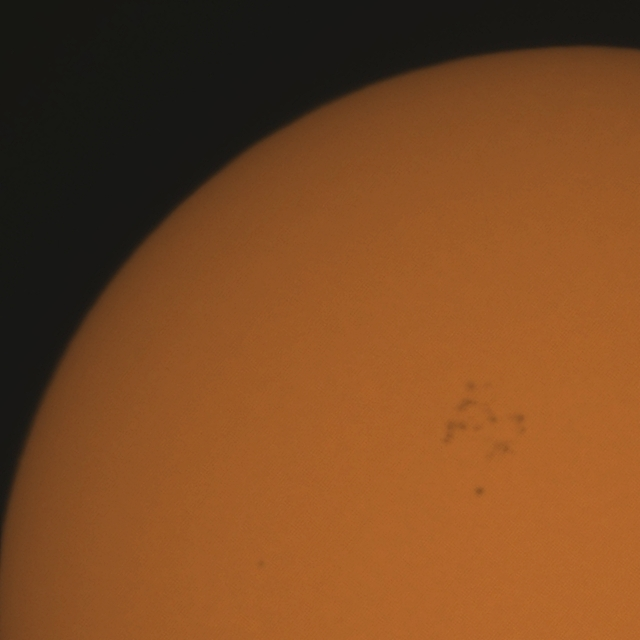sunspot: (472, 484, 486, 498)
